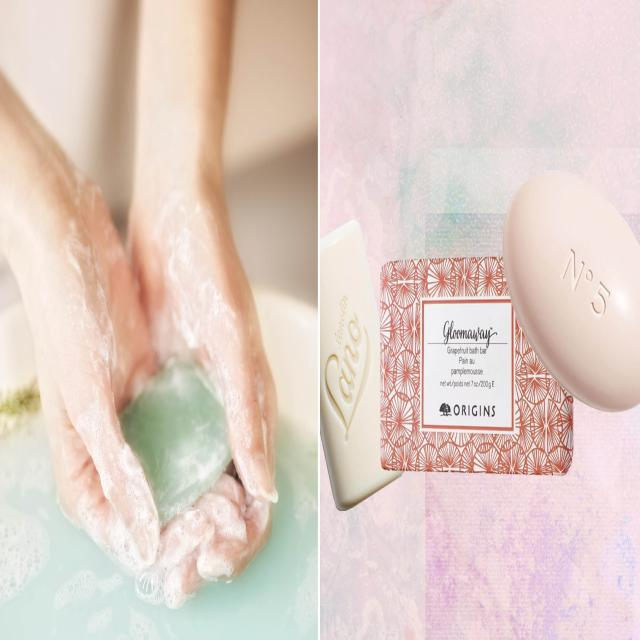soap: (304, 192, 414, 520), (497, 168, 640, 418)
